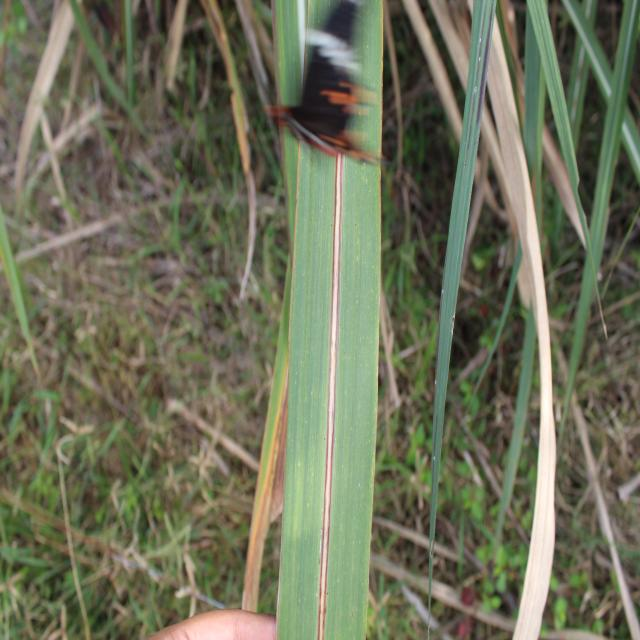Sugarcane: (271, 0, 383, 640)
